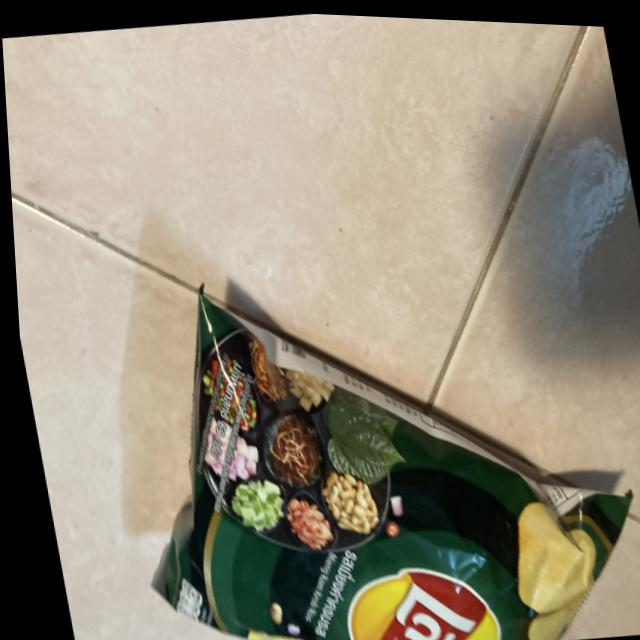Laygreen: (89, 233, 640, 640)
